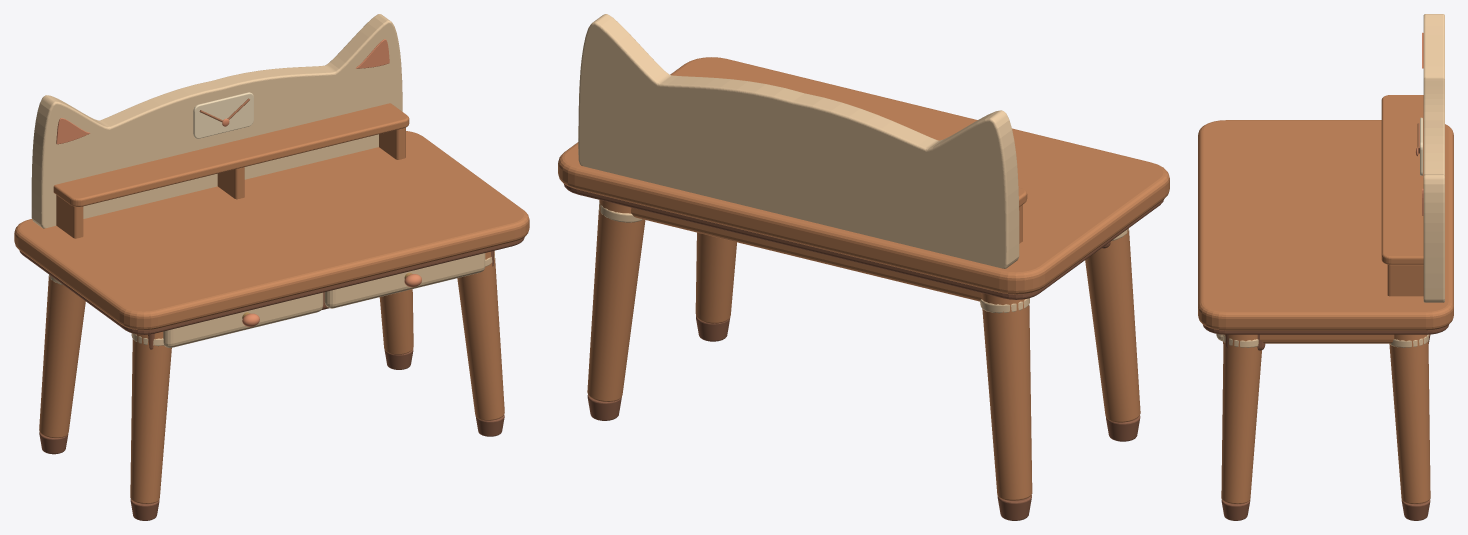
File: cat-post-desk.glb
The picture shows the model from 3 angles, left to right: view 1: azimuth 30°, elevation 25°; view 2: azimuth 150°, elevation 25°; view 3: azimuth 270°, elevation 25°; orthographic projection. The views are drawn at different scales.
Parts seen in each view (by area): view 1: catPostDesk; view 2: catPostDesk; view 3: catPostDesk.
Part boxes in pixels (bbox=[...]): catPostDesk: bbox=[14, 14, 529, 520]; catPostDesk: bbox=[558, 14, 1169, 520]; catPostDesk: bbox=[1198, 14, 1453, 520].
Bounding box in the file's own units: 2.5 × 2.02 × 1.38.
